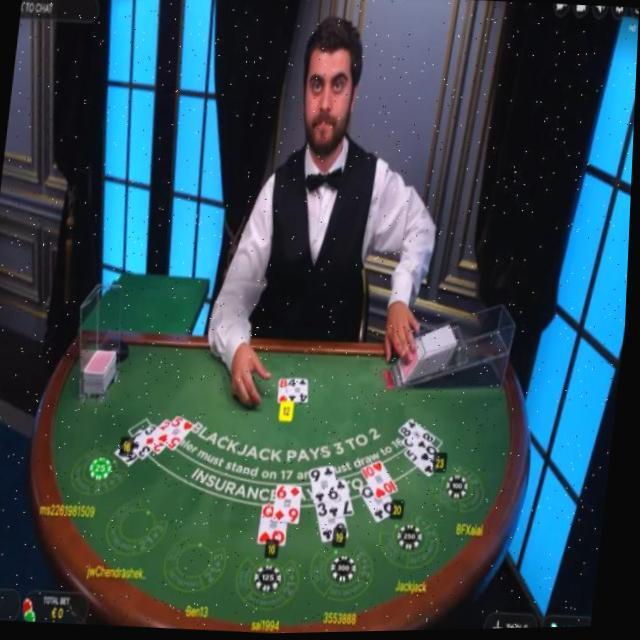Card-10: (365, 462, 402, 500)
Card-2: (148, 419, 174, 455)
Card-3: (320, 502, 353, 544), (137, 425, 162, 461)
Card-4: (291, 379, 311, 404)
Card-5: (162, 416, 199, 451), (408, 450, 446, 480)
Card-6: (277, 485, 306, 525), (118, 432, 145, 466)
Card-7: (330, 480, 358, 520)
Card-8: (401, 419, 439, 453), (281, 380, 291, 403)
Card-9: (314, 467, 343, 504)
Card-Q: (363, 485, 402, 524), (262, 507, 292, 547), (406, 439, 443, 465)
